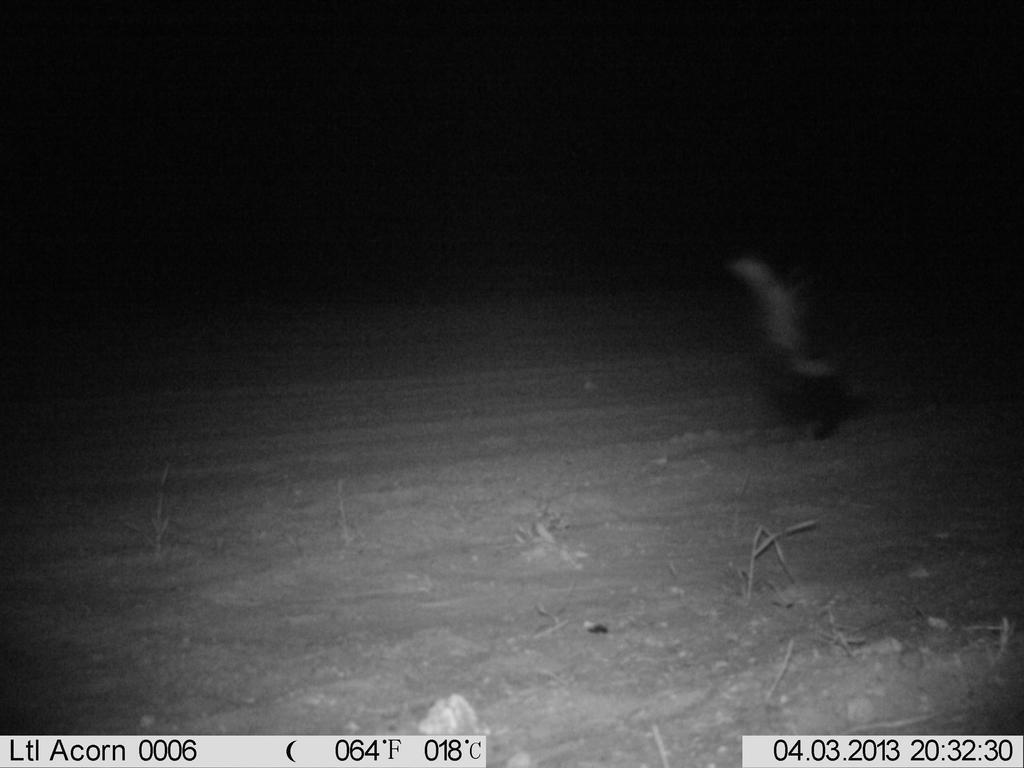skunk: (720, 225, 890, 460)
